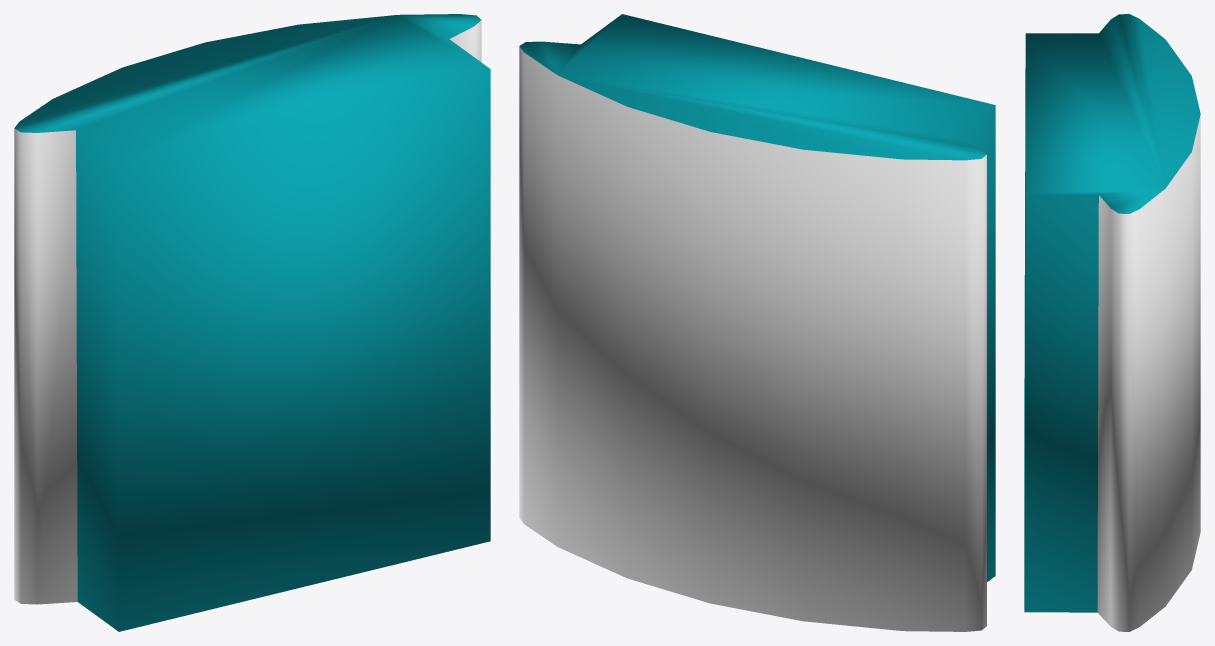
Rendered from WallLight.fbx.
3 views of the same model, side by side, from view 1: azimuth 30°, elevation 25°; view 2: azimuth 150°, elevation 25°; view 3: azimuth 270°, elevation 25° (orthographic). The views are drawn at different scales.
Parts seen in each view (by area): view 1: Cylinder; view 2: Cylinder; view 3: Cylinder.
Part boxes in pixels (x1,y1,x2,y2): Cylinder: (14, 14, 490, 631); Cylinder: (519, 14, 995, 631); Cylinder: (1024, 14, 1200, 631).
Bounding box in the file's own units: 0.4105 × 0.4002 × 0.1531.
